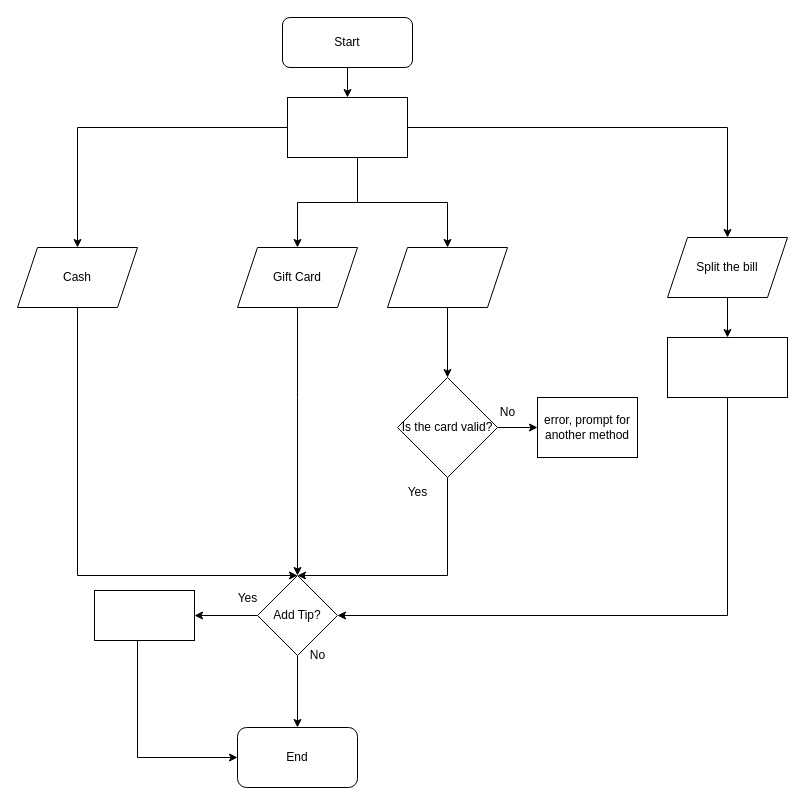
The diagram is 805 pixels wide and 805 high, and some of its shapes have lost their labels. Each missing label, with the centre of its shape:
"Credit/debit card" belongs at point (447, 277).
"Process payment" belongs at point (347, 127).
"Tip Amount" belongs at point (144, 615).
"User Chooses a combination" belongs at point (727, 367).
